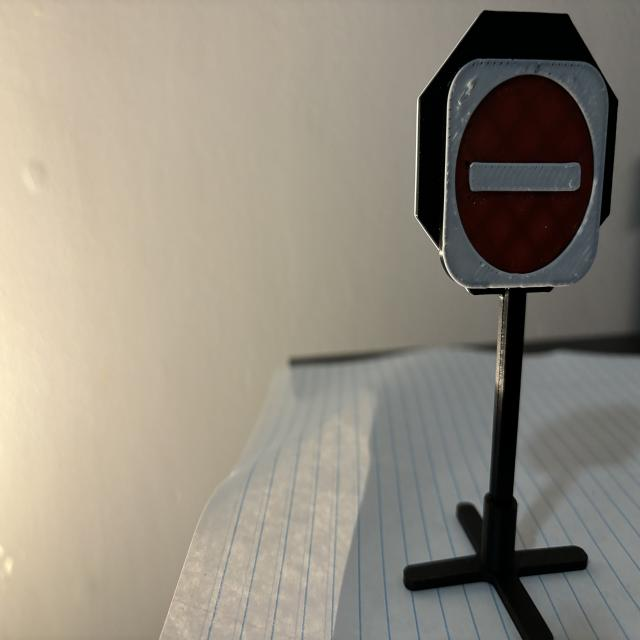sign_noentry: (444, 60, 610, 289)
